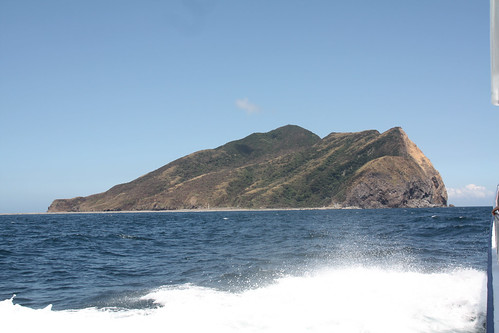turtleIsland: (40, 121, 448, 208)
